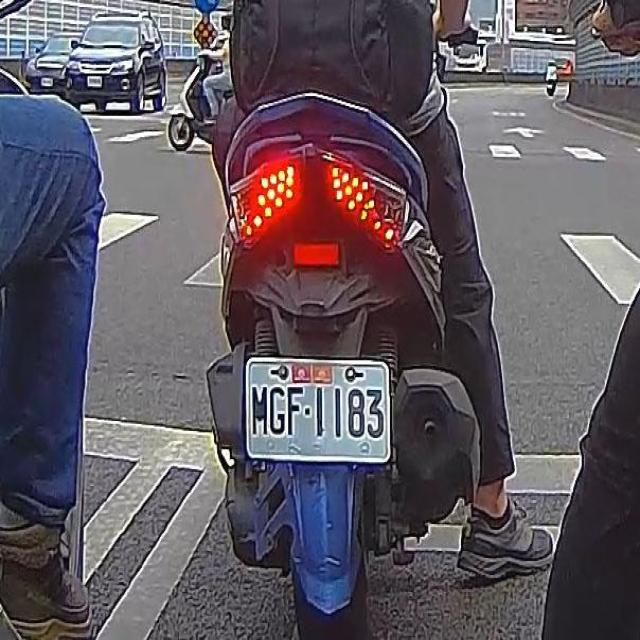license-plate: (245, 354, 392, 467)
